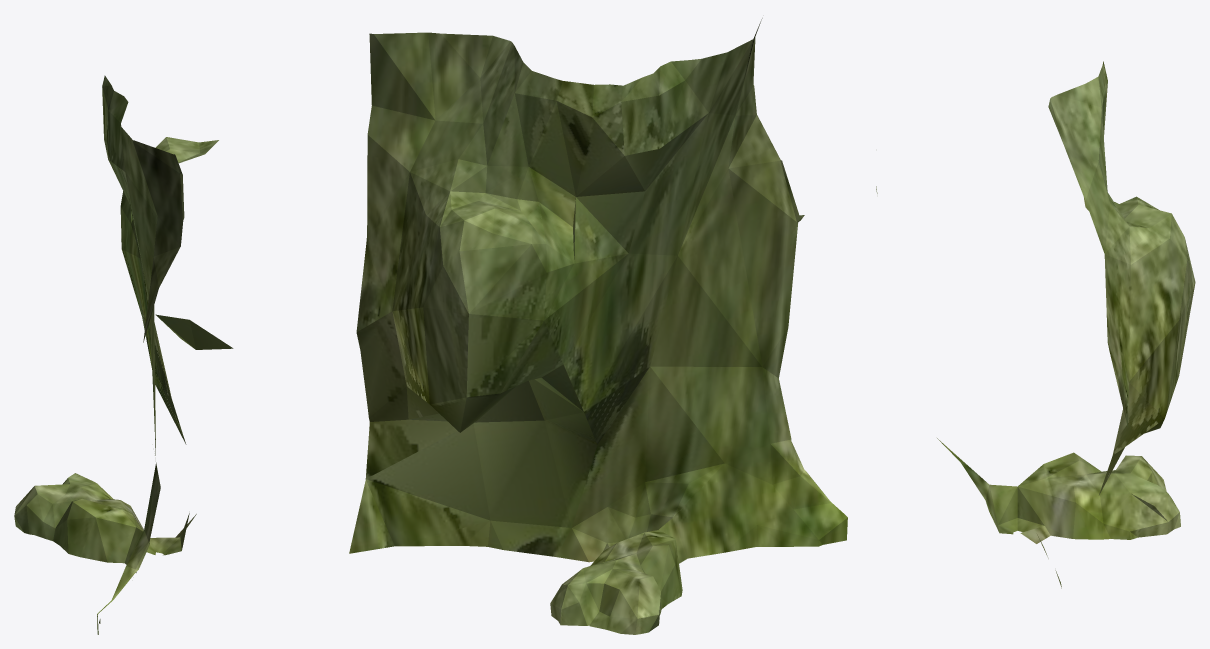
The picture shows the model from 3 angles, left to right: view 1: azimuth 30°, elevation 25°; view 2: azimuth 150°, elevation 25°; view 3: azimuth 270°, elevation 25°; orthographic projection. The views are drawn at different scales.
Bounding box in the file's own units: 2.2 × 2.95 × 1.76.
3 materials, 3 textured.
